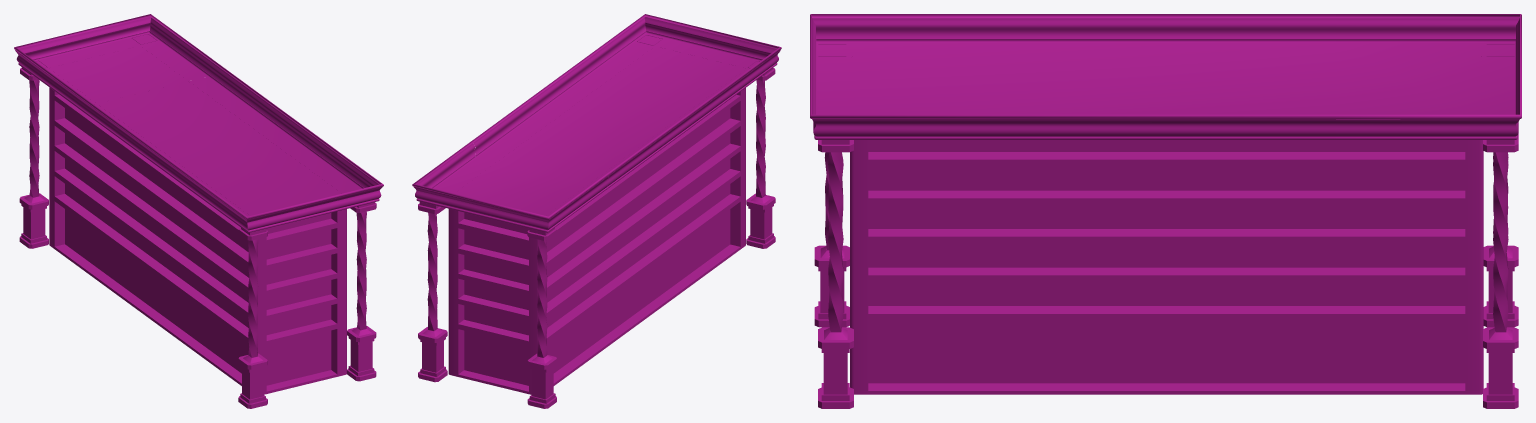
Rendered from Bibliv2.FBX.
3 renders of one model, left to right at view 1: azimuth 30°, elevation 25°; view 2: azimuth 150°, elevation 25°; view 3: azimuth 270°, elevation 25°, orthographic. The views are drawn at different scales.
Visible parts, largest first — view 1: New biblio; view 2: New biblio; view 3: New biblio.
Part boxes in pixels (x1,y1,x2,y2): New biblio: [14, 14, 383, 408]; New biblio: [412, 14, 781, 408]; New biblio: [810, 14, 1521, 408].
Size of the model in its own units: 110 by 149 by 324.
